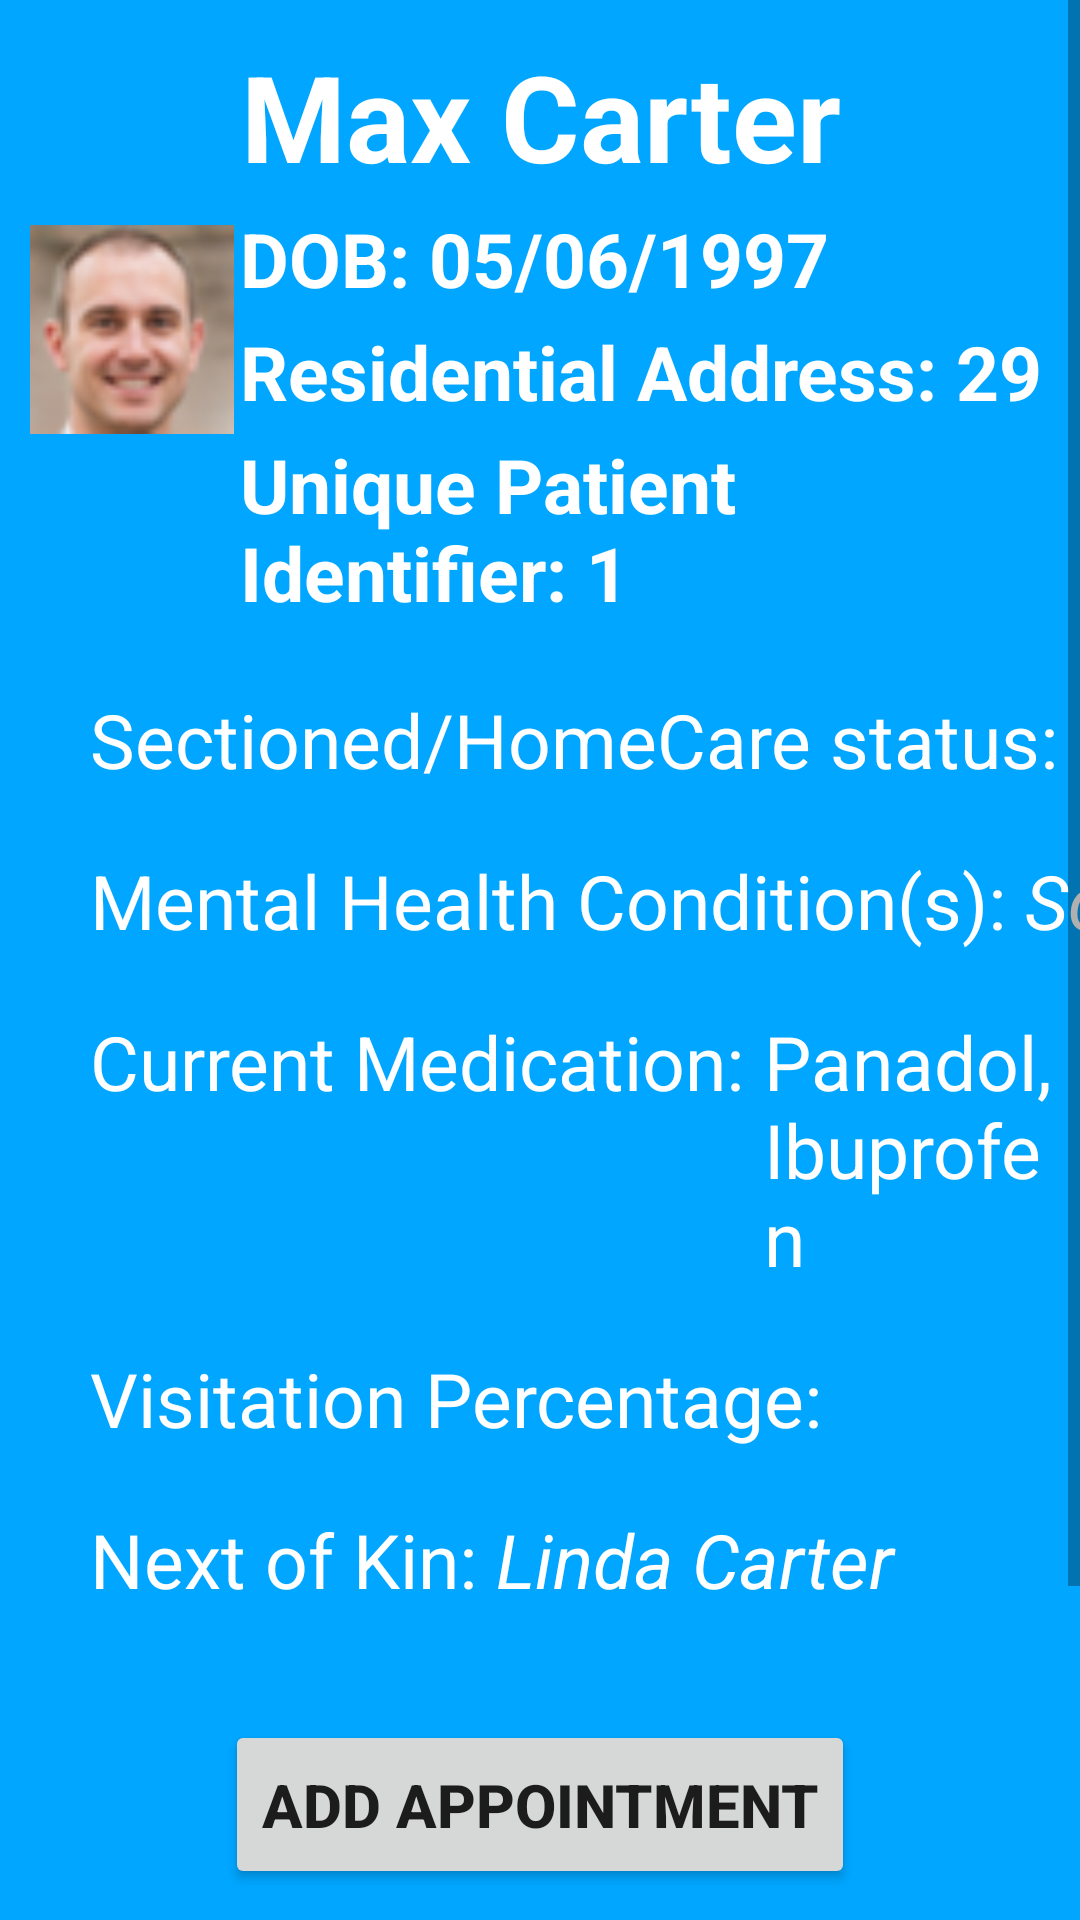

Named icons in this screenshot (1080×1920) and their centers, (x=x, y=y):
profile picture: (x=132, y=329)
